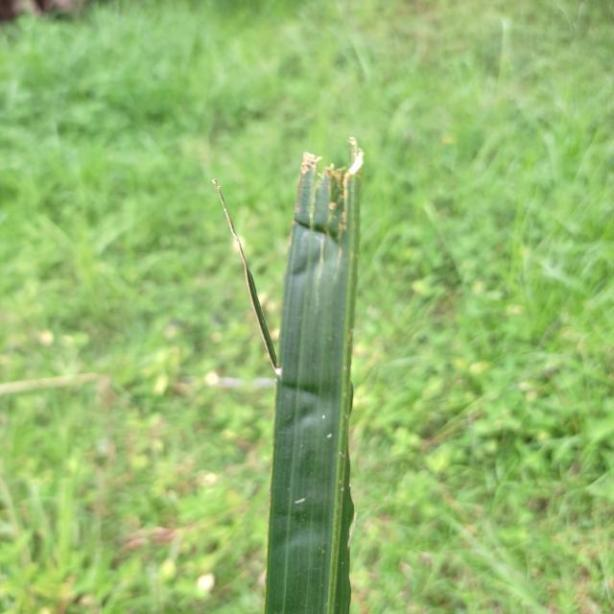Boron: (209, 137, 368, 614)
